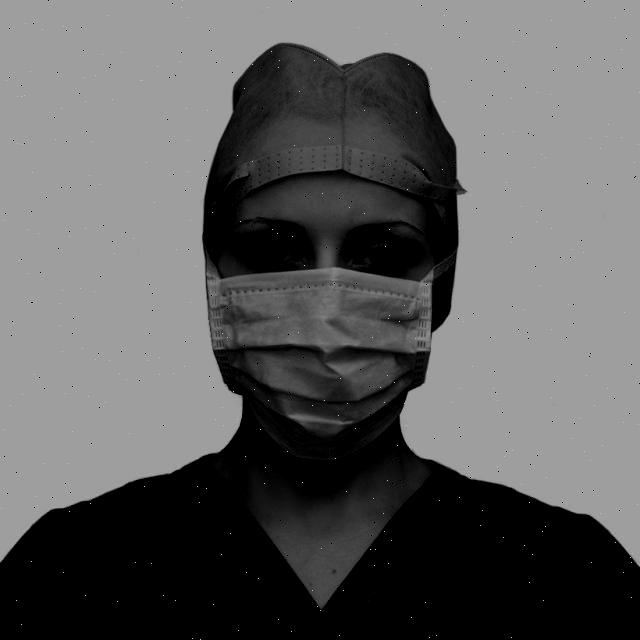fake: (169, 229, 481, 493)
real: (219, 172, 439, 465)
